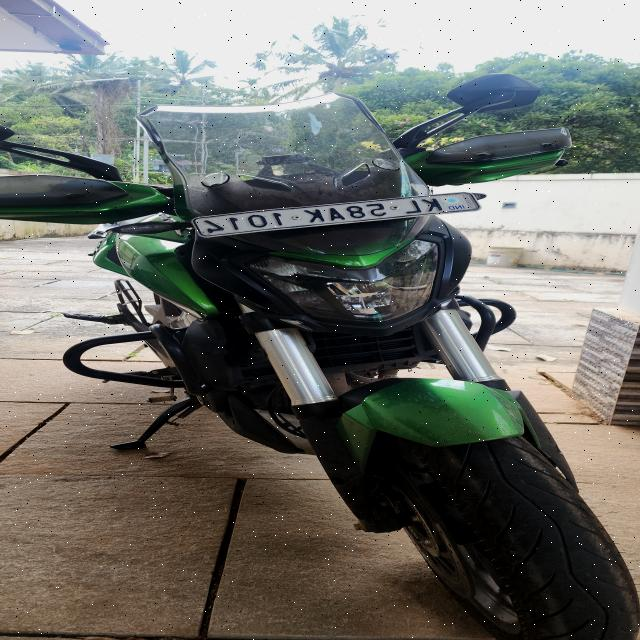headlight: (244, 238, 440, 323)
